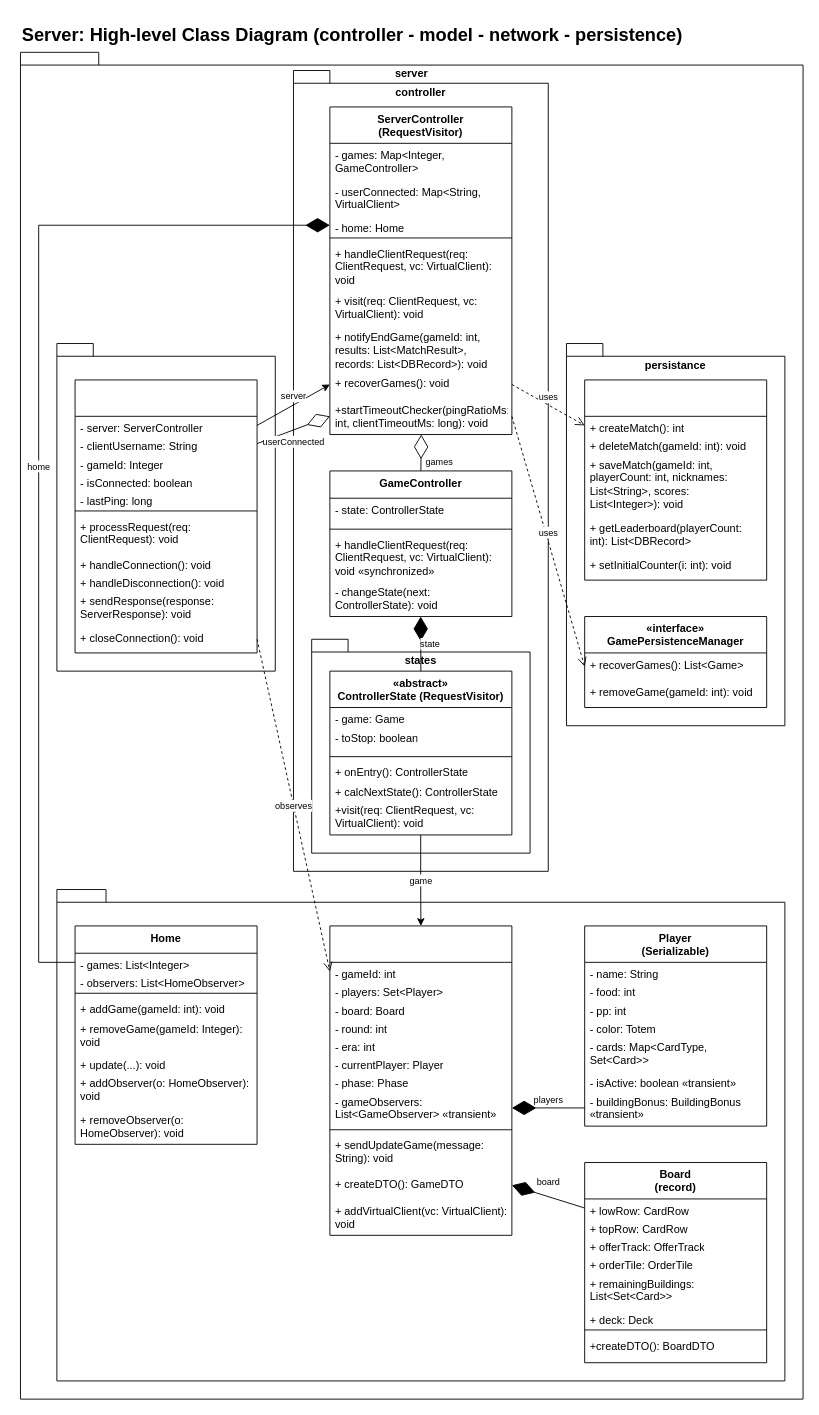
Some shapes in this 819 by 1415 pixel diagram are drawn without their labels. Here are the shapes that lost their labels. From the top down, the box of each, then its label:
(584, 379, 767, 580): «interface» GameDAO
(56, 343, 275, 671): network
(74, 379, 257, 653): «abstract» VirtualClient ( GameObserver)
(329, 925, 512, 1235): Game (Serializable)
(56, 889, 785, 1381): model
